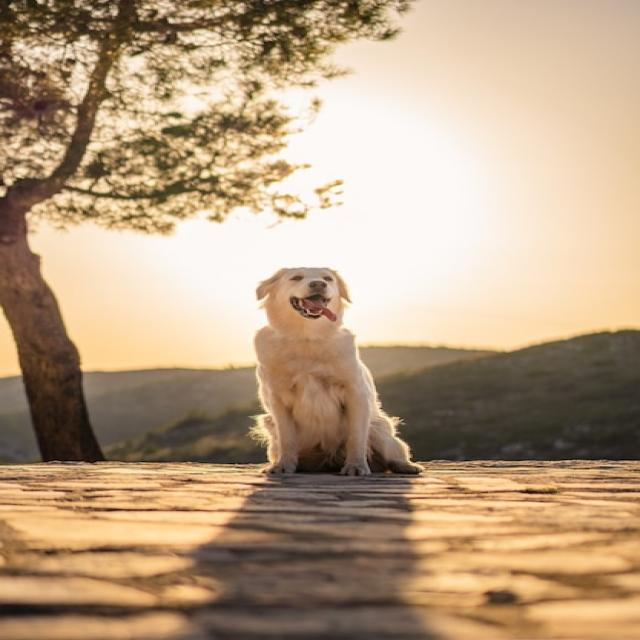Dog: (251, 266, 428, 474)
